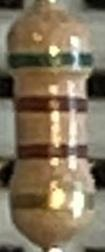Brown: (16, 141, 89, 162), (15, 94, 88, 115)
Green: (7, 51, 92, 72)
Side-Gold: (10, 189, 97, 213)
